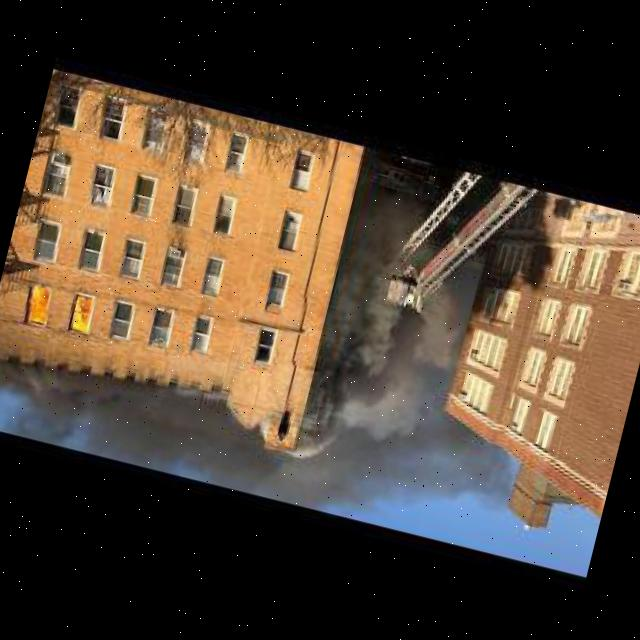fire: (13, 272, 59, 332), (58, 286, 101, 340)
